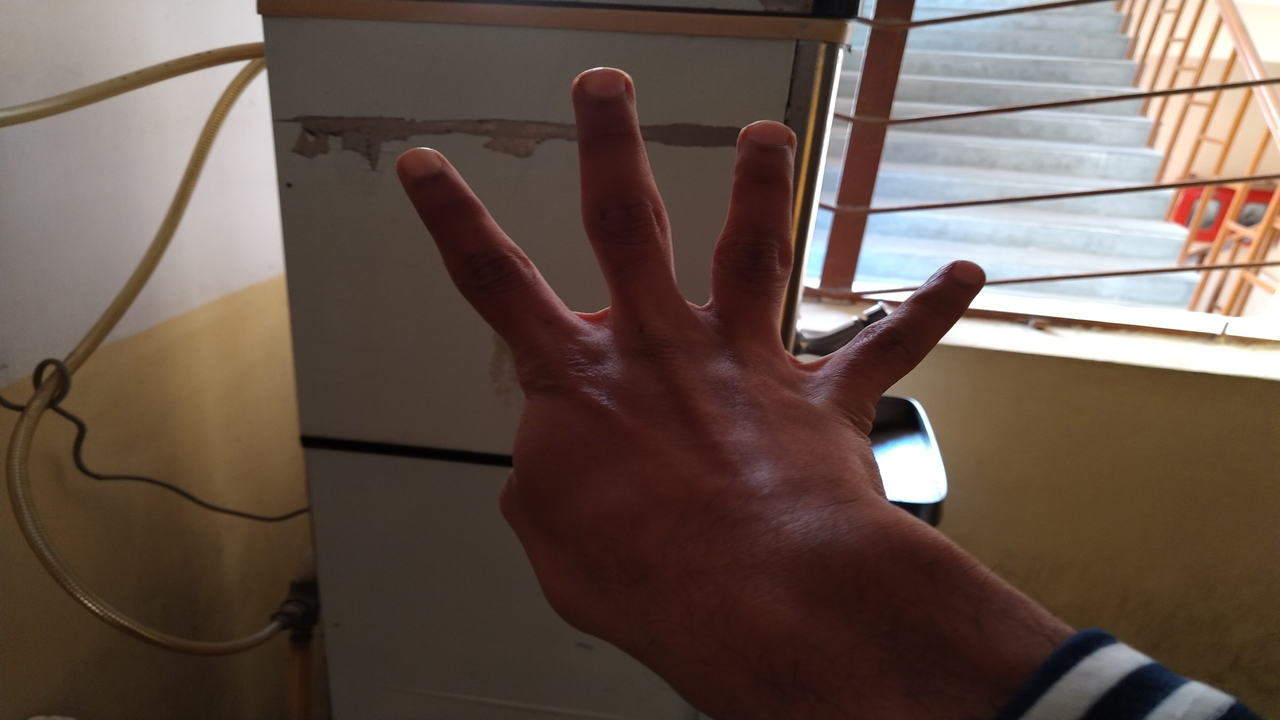fingertip: (570, 62, 640, 116), (732, 112, 796, 170), (390, 142, 456, 194), (928, 252, 996, 300)
